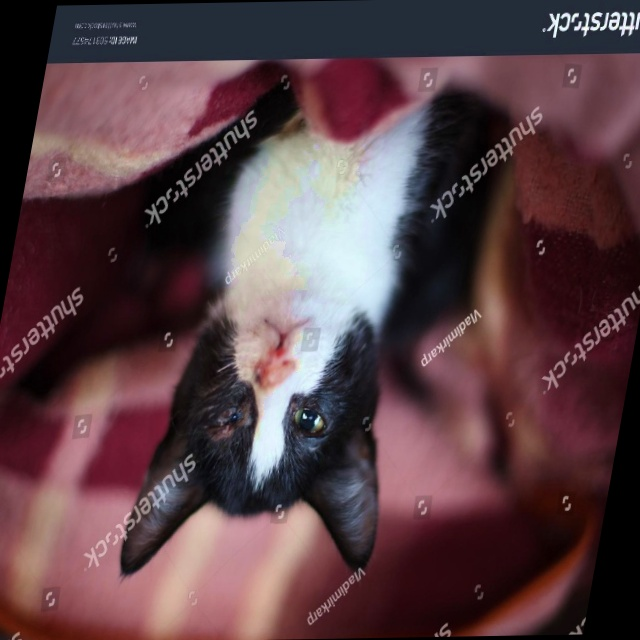eye_infection: (285, 402, 331, 442), (208, 408, 240, 439)
